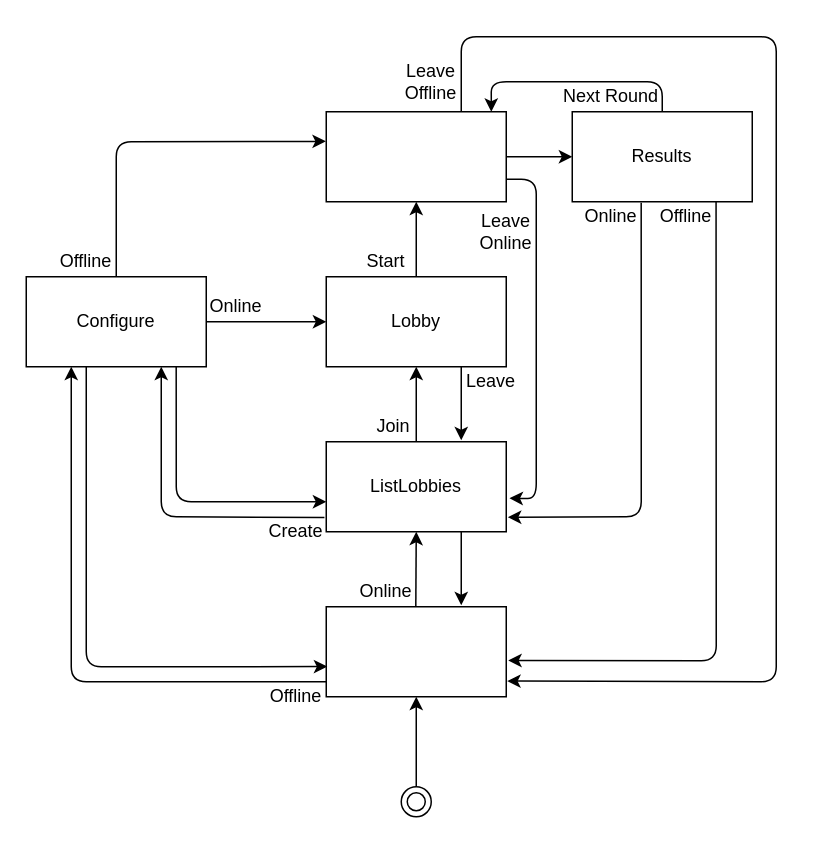
The diagram is 815 pixels wide and 843 high, and some of its shapes have lost their labels. The centre of each missing label's shape, as x and y in pixels:
"Game" goes at point (415, 156).
"Launcher" goes at point (415, 651).
